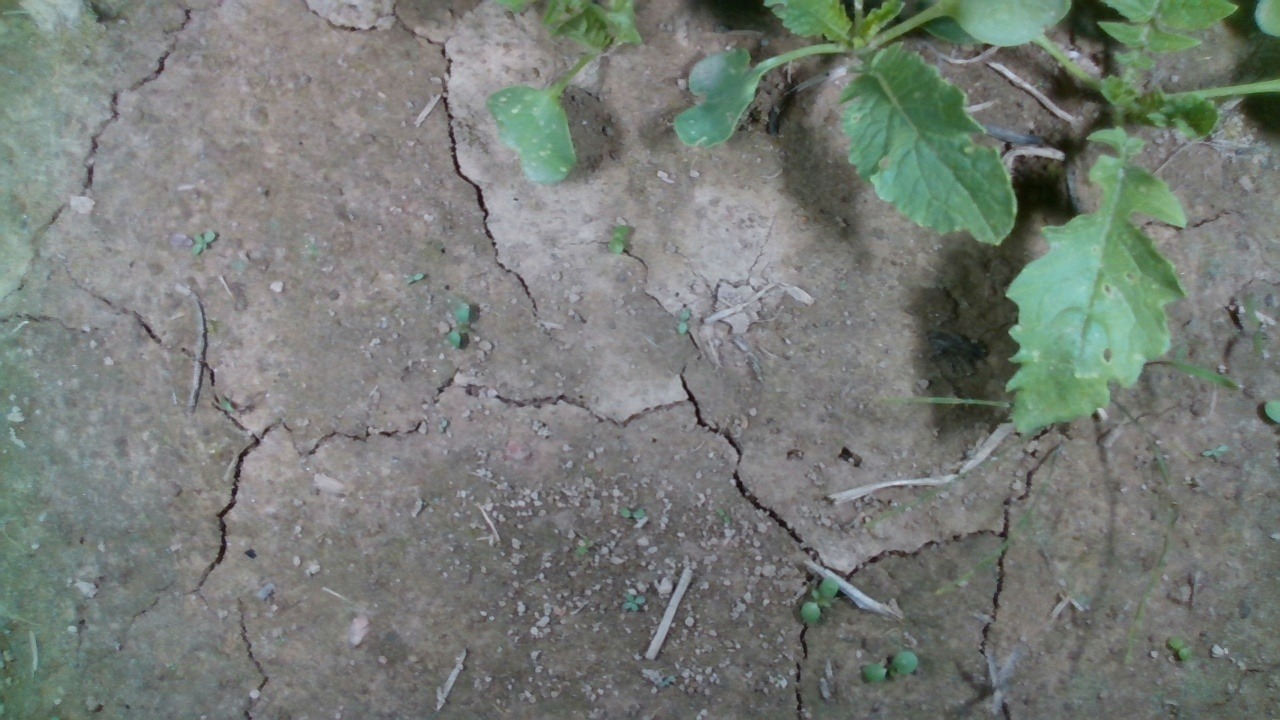weed: (798, 576, 838, 625), (861, 651, 920, 683), (446, 303, 469, 352), (605, 223, 630, 255), (191, 228, 216, 256), (1167, 634, 1191, 662), (405, 272, 423, 285)
